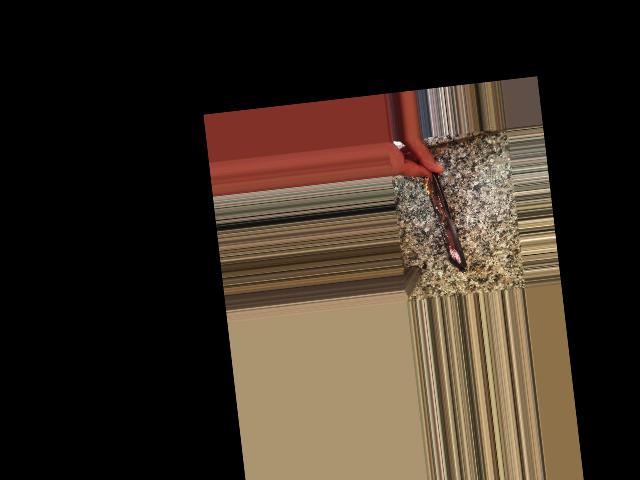chocolate: (414, 155, 474, 276)
